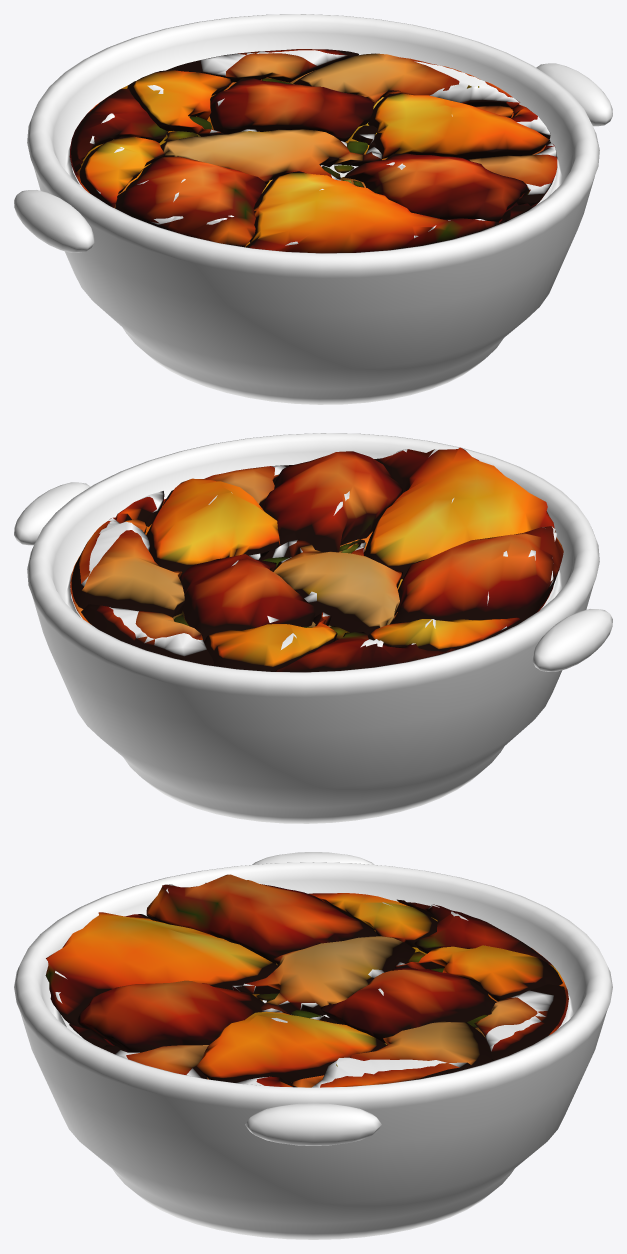
The picture shows the model from 3 angles, top to bottom: view 1: azimuth 30°, elevation 25°; view 2: azimuth 150°, elevation 25°; view 3: azimuth 270°, elevation 25°; orthographic projection.
Parts seen in each view (by area): view 1: SM_D13; view 2: SM_D13; view 3: SM_D13.
Part boxes in pixels (x1,y1,x2,y2): SM_D13: (14,14,612,404); SM_D13: (14,433,612,823); SM_D13: (14,852,612,1239).
Bounding box in the file's own units: 0.2154 × 0.0761 × 0.2.
